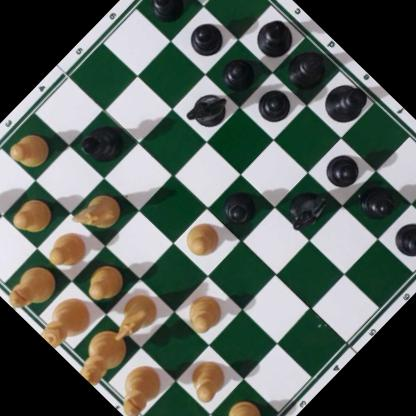black-bishop: (75, 114, 134, 173), (249, 10, 303, 63)
black-king: (316, 73, 376, 133)
black-knight: (279, 180, 334, 235), (185, 83, 235, 134)
black-pawn: (217, 183, 266, 232), (321, 145, 369, 193), (184, 14, 232, 61), (251, 80, 298, 128), (217, 49, 263, 96), (356, 179, 402, 225), (389, 214, 416, 265), (146, 0, 192, 25)
black-queen: (279, 40, 340, 100)
white-bishop: (0, 256, 64, 322), (107, 358, 170, 416)
white-king: (70, 320, 136, 387)
white-knight: (102, 286, 166, 351), (71, 183, 128, 240)
white-pawn: (182, 352, 235, 405), (5, 124, 56, 175), (180, 286, 231, 337), (80, 256, 131, 306), (42, 225, 93, 275), (9, 189, 59, 239), (179, 214, 227, 262), (218, 392, 272, 416)
white-queen: (33, 289, 101, 357)
